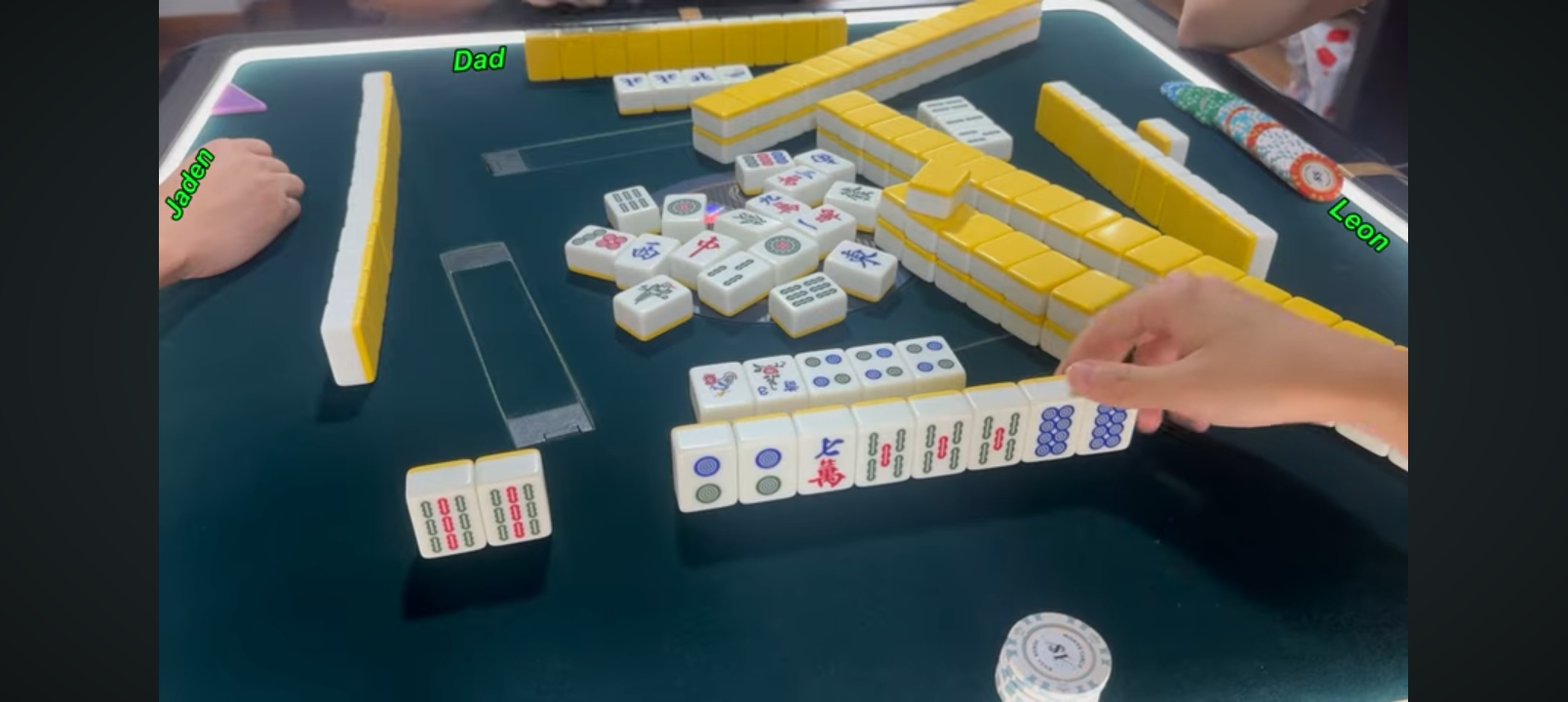TILE: (482, 483, 557, 543), (799, 420, 858, 494), (676, 446, 740, 511), (412, 493, 480, 554), (971, 409, 1030, 471), (739, 440, 798, 502), (916, 417, 973, 480), (858, 423, 915, 486), (1025, 402, 1081, 462), (686, 362, 751, 408), (901, 336, 966, 377), (745, 355, 799, 404), (849, 343, 904, 384), (798, 349, 849, 392)
